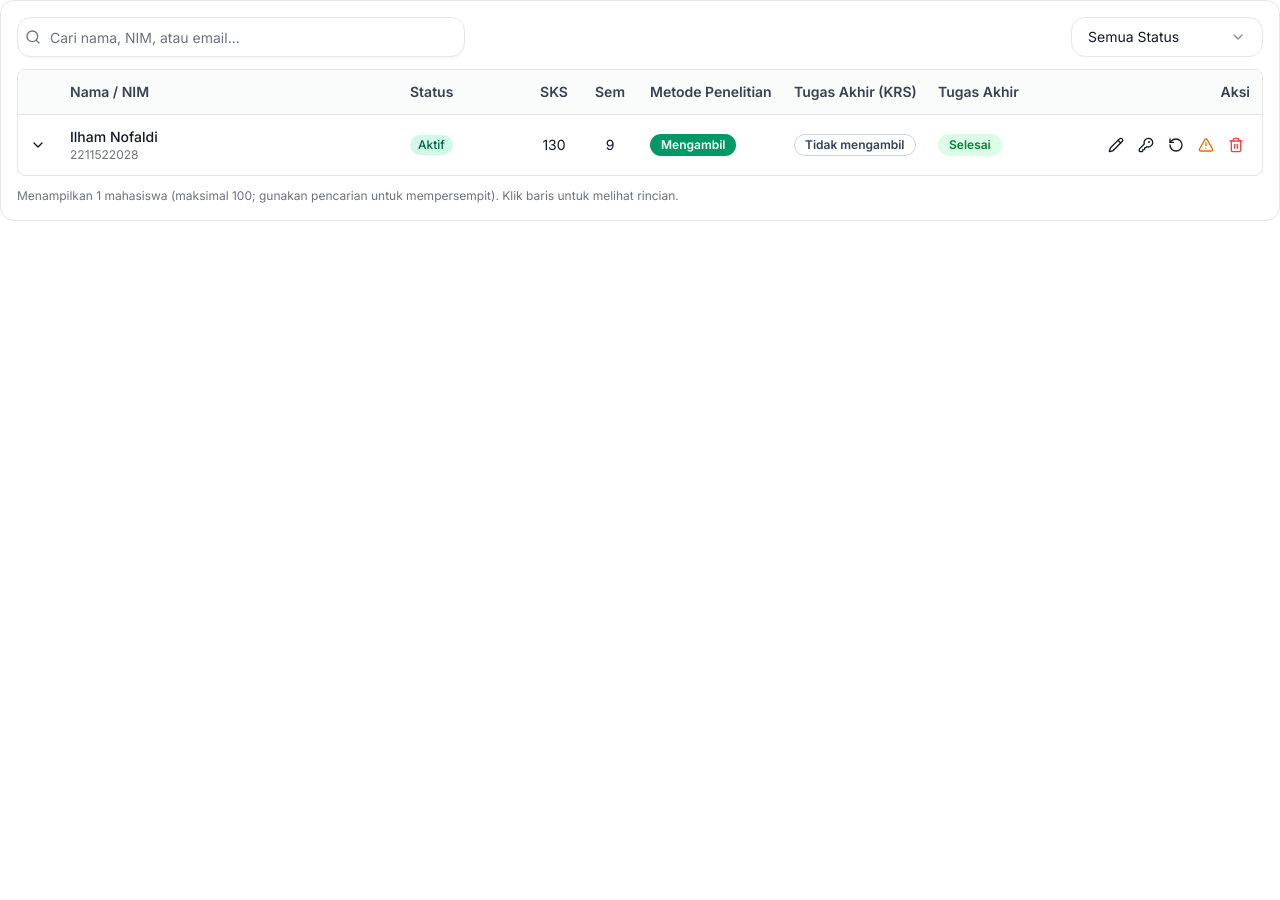
Scenario: DevTools panels › Student panel shows labelled statuses and keeps the flags in the expandable row
Expected: the text "Aktif" is shown, [410,135,453,155]
Expected: the text "Selesai" is shown, [938,134,1002,156]
Click the text "Ilham Nofaldi". click: click(114, 136)
box: [70,128,158,144]
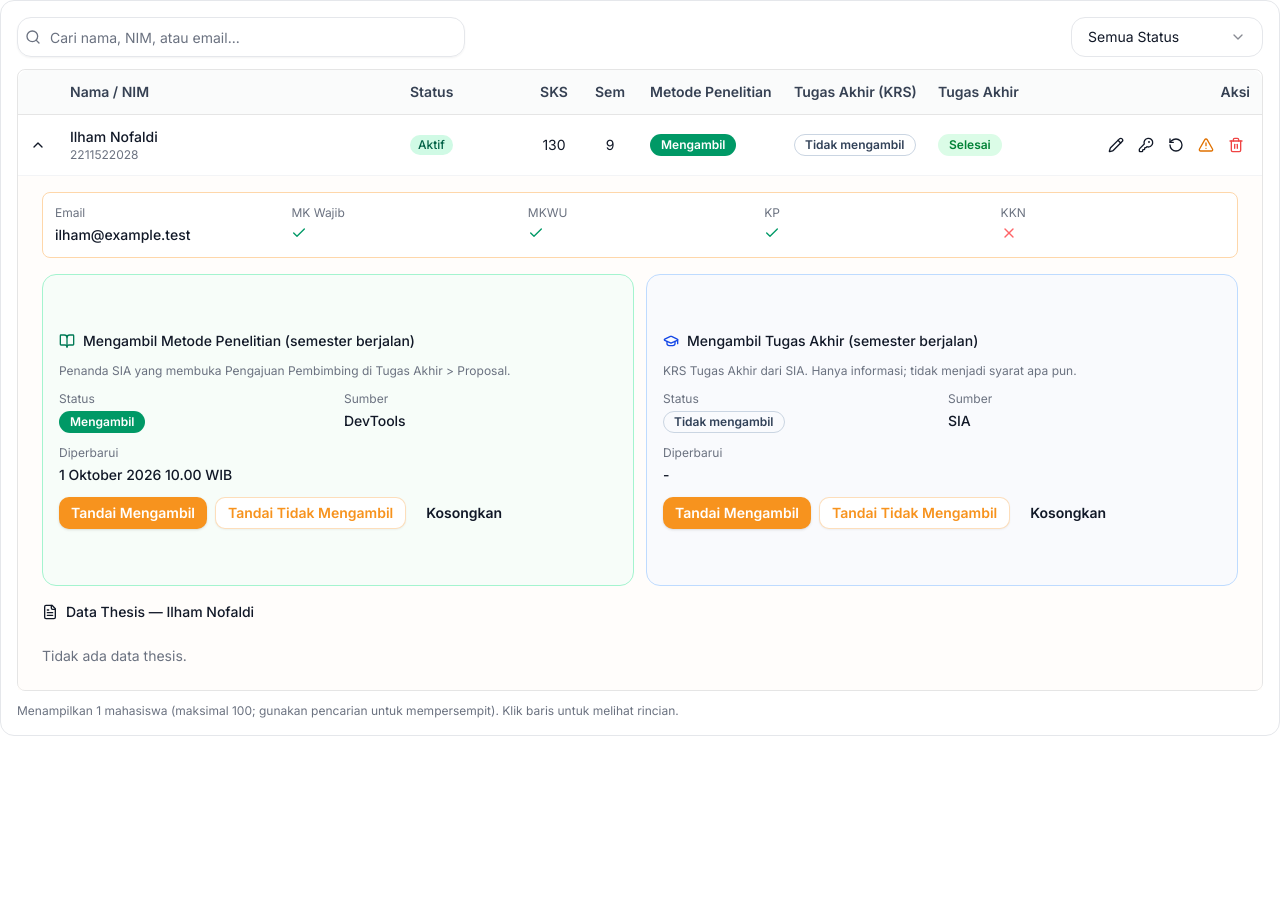
Expected: the text "KKN" is shown, [1001,204,1026,220]
Expected: the text "Mengambil Metode Penelitian (semester berjalan)" is shown, [59,332,415,348]
Expected: the text "1 Oktober 2026 10.00 WIB" is shown, [59,466,232,482]
